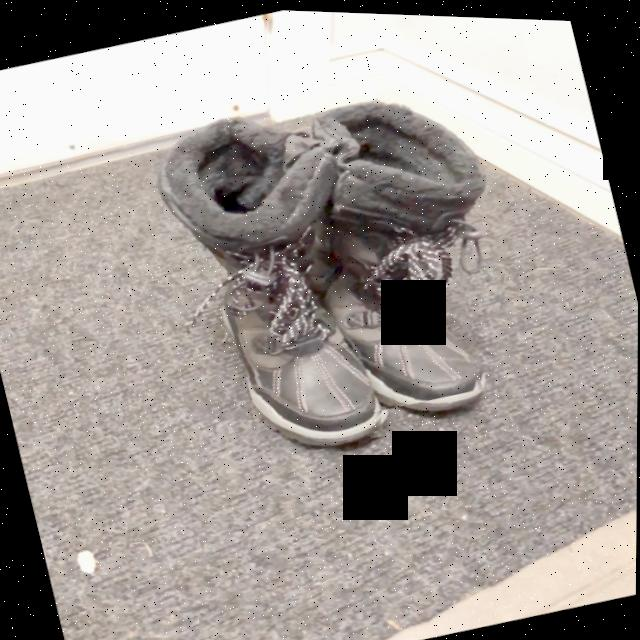shoe: (222, 260, 379, 438), (325, 240, 481, 400)
